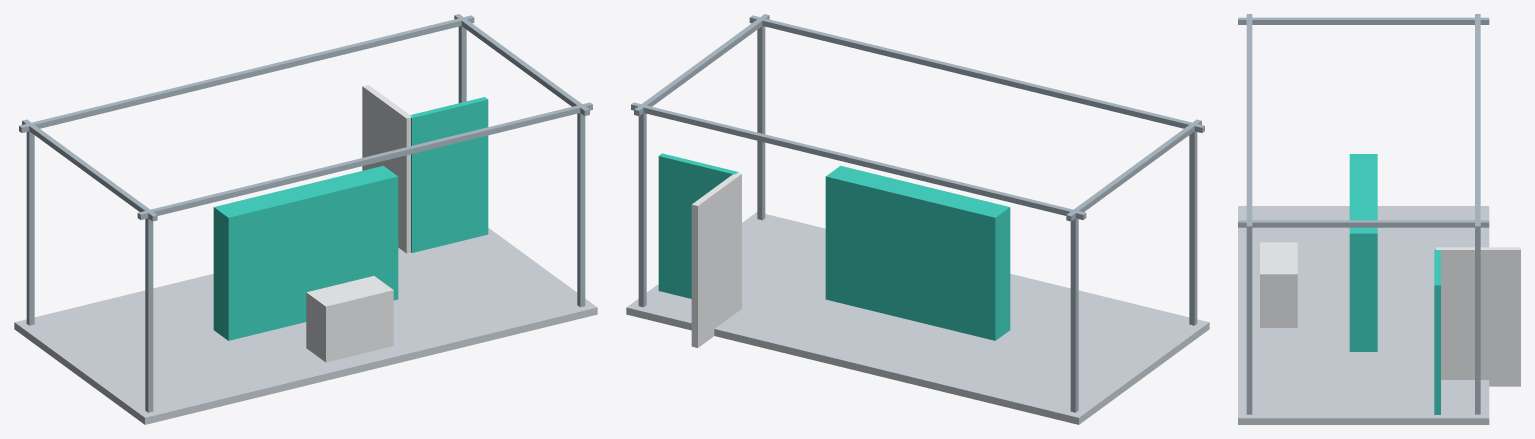
The picture shows the model from 3 angles, left to right: view 1: azimuth 30°, elevation 25°; view 2: azimuth 150°, elevation 25°; view 3: azimuth 270°, elevation 25°; orthographic projection. The views are drawn at different scales.
Visible parts, largest first — view 1: Exhibition Booth Concept; view 2: Exhibition Booth Concept; view 3: Exhibition Booth Concept.
Boxes of the visible parts, x1=… form: Exhibition Booth Concept: x1=14, y1=14, x2=597, y2=424; Exhibition Booth Concept: x1=626, y1=14, x2=1209, y2=424; Exhibition Booth Concept: x1=1238, y1=14, x2=1520, y2=424.
Size of the model in its own units: 8 by 3.49 by 4.51.
